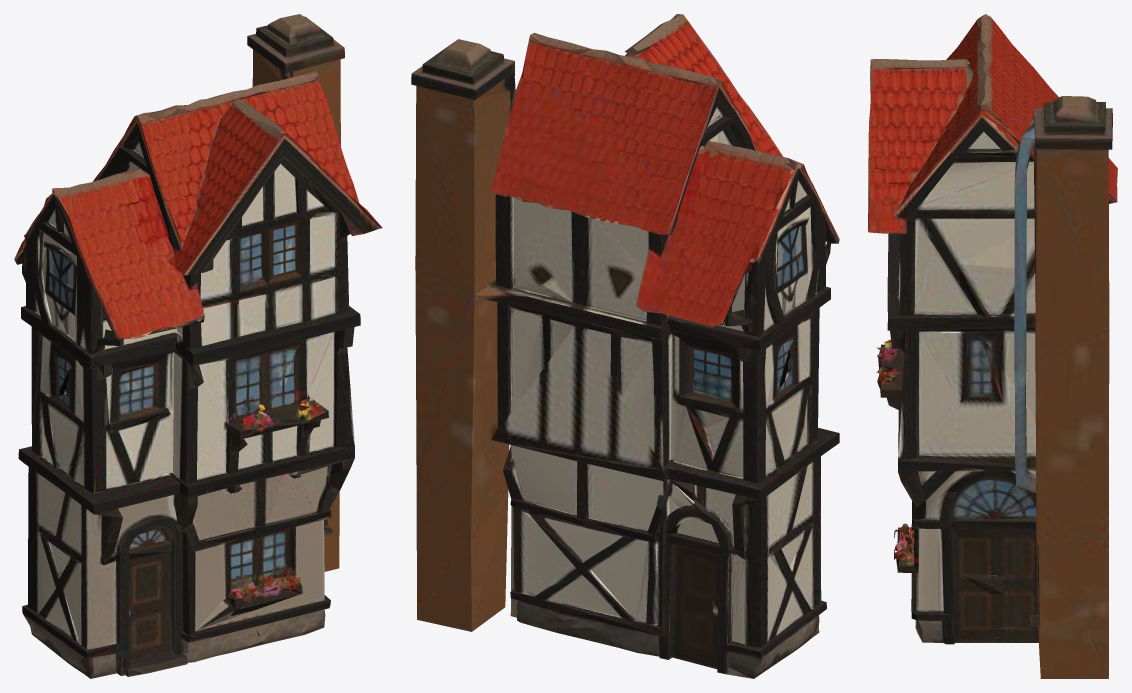
The model's file is houseD.glb.
3 views of the same model, side by side, from view 1: azimuth 30°, elevation 25°; view 2: azimuth 150°, elevation 25°; view 3: azimuth 270°, elevation 25° (orthographic). The views are drawn at different scales.
Visible parts, largest first — view 1: output_unwrapped; view 2: output_unwrapped; view 3: output_unwrapped.
Boxes of the visible parts, x1=… form: output_unwrapped: x1=14, y1=14, x2=382, y2=678; output_unwrapped: x1=411, y1=14, x2=839, y2=678; output_unwrapped: x1=868, y1=14, x2=1117, y2=678.
Size of the model in its own units: 1.15 by 1.9 by 0.7628.
1 material, 1 textured.
